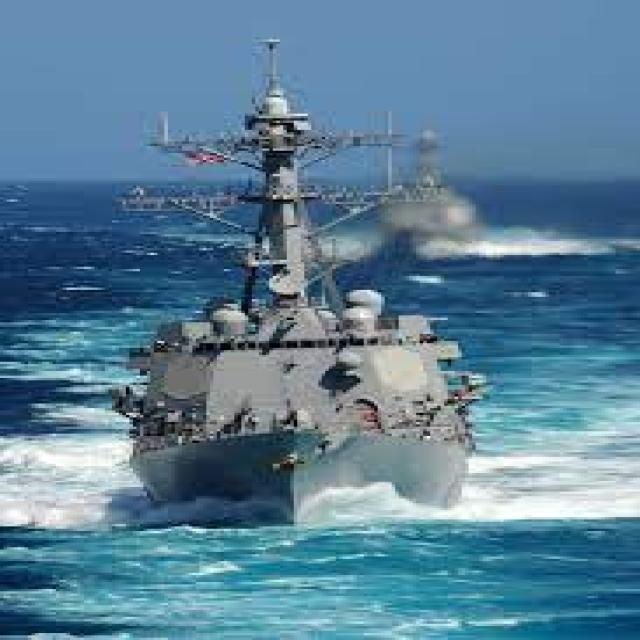navalvessels: (70, 51, 512, 541), (375, 115, 506, 247)
